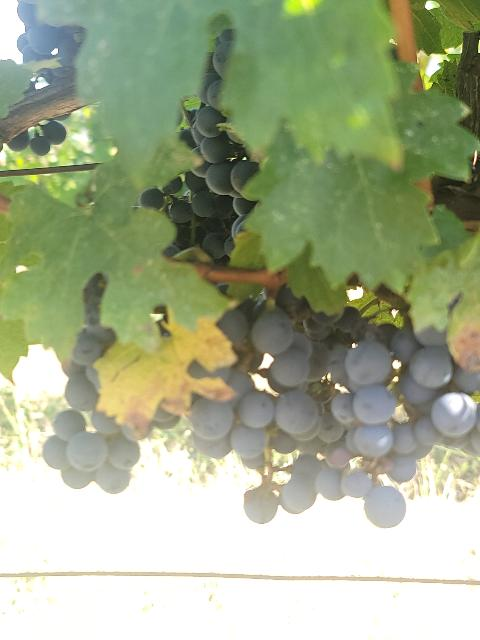grapes: (188, 285, 480, 528), (42, 274, 139, 494)
